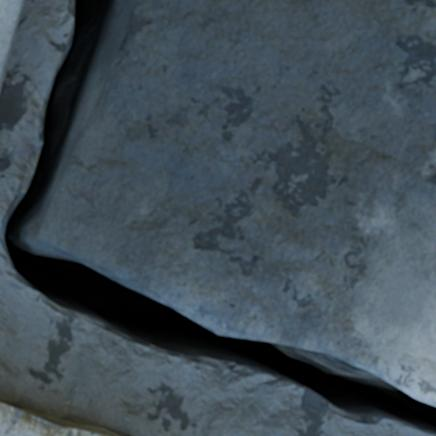brick: (26, 0, 435, 404), (0, 402, 117, 435), (0, 0, 24, 89)
crack: (2, 0, 435, 435)
